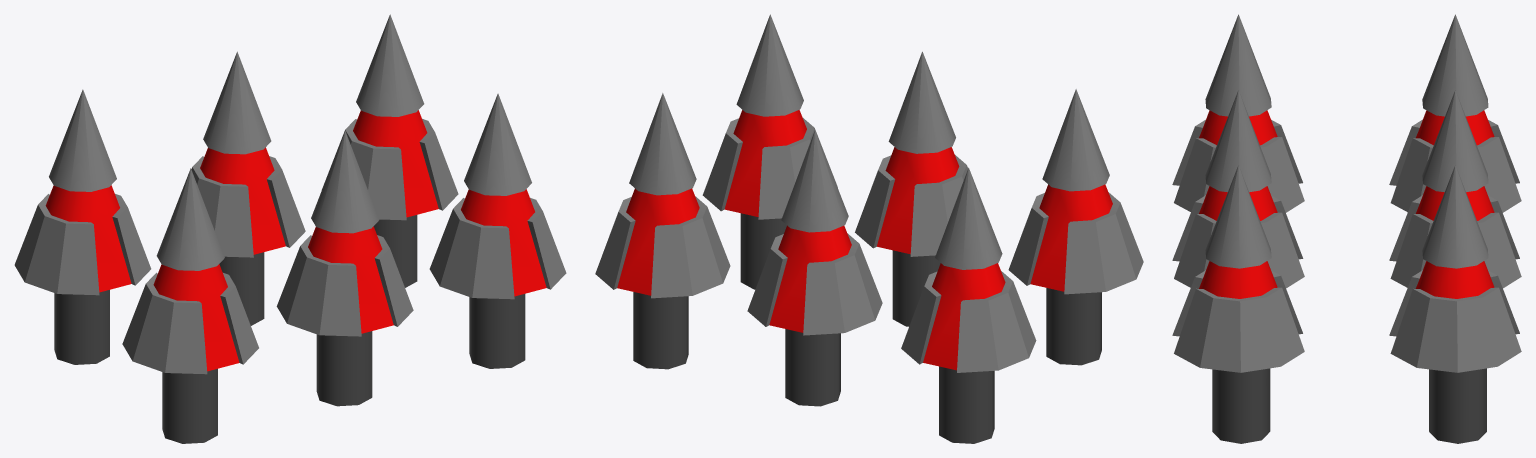
File: spike.FBX
The picture shows the model from 3 angles, left to right: view 1: azimuth 30°, elevation 25°; view 2: azimuth 150°, elevation 25°; view 3: azimuth 270°, elevation 25°; orthographic projection.
Visible parts, largest first — view 1: Cone007, Cone008, Cone006, Cone003, Cone004, Cone005; view 2: Cone004, Cone006, Cone003, Cone005, Cone007, Cone008; view 3: Cone008, Cone005, Cone003, Cone006, Cone004, Cone007.
Boxes of the visible parts, left/top/right/bottom form: Cone007: left=276, top=130, right=413, bottom=406; Cone008: left=429, top=93, right=566, bottom=368; Cone006: left=122, top=168, right=258, bottom=443; Cone003: left=14, top=89, right=151, bottom=364; Cone004: left=191, top=51, right=305, bottom=325; Cone005: left=322, top=14, right=458, bottom=287; Cone004: left=747, top=130, right=882, bottom=406; Cone006: left=1008, top=89, right=1143, bottom=365; Cone003: left=901, top=167, right=1036, bottom=443; Cone005: left=595, top=93, right=730, bottom=369; Cone007: left=855, top=51, right=967, bottom=326; Cone008: left=702, top=14, right=837, bottom=289; Cone008: left=1172, top=165, right=1304, bottom=443; Cone005: left=1389, top=165, right=1521, bottom=443; Cone003: left=1389, top=14, right=1521, bottom=212; Cone006: left=1172, top=14, right=1304, bottom=212; Cone004: left=1389, top=90, right=1521, bottom=288; Cone007: left=1172, top=90, right=1304, bottom=288.
Bounding box in the file's own units: 17.18 × 10.23 × 12.14.
Materials: 1 (1 with a texture image).
